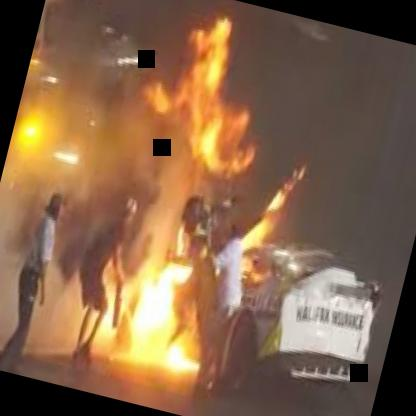fire: (93, 27, 272, 356)
